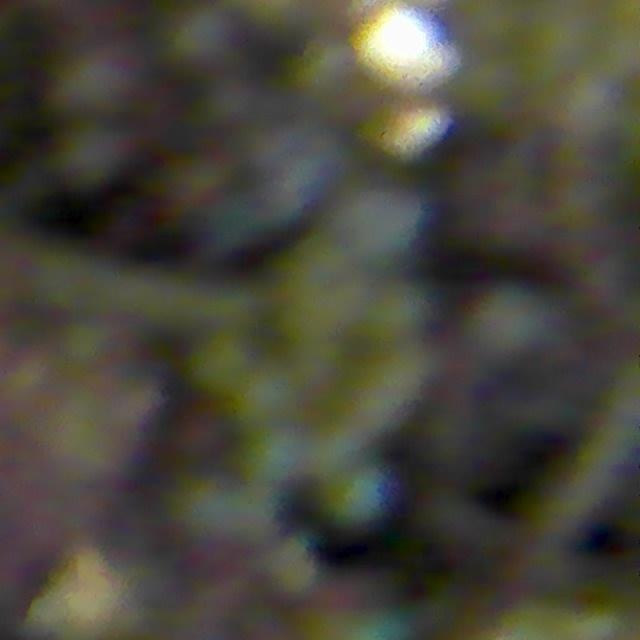SeaGrape: (466, 280, 560, 366), (338, 183, 425, 265), (56, 41, 144, 120), (55, 120, 133, 191), (167, 0, 238, 72), (325, 463, 390, 531), (242, 425, 308, 486)
